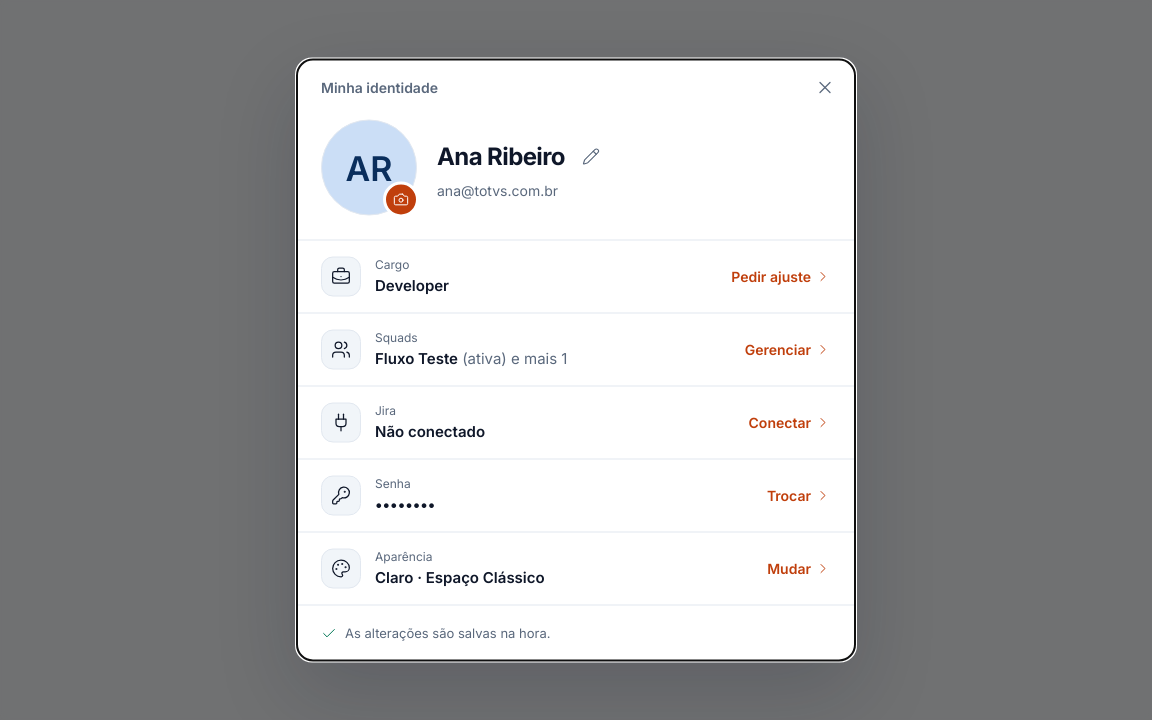
Test: UserProfileModal: nome no lugar › Enter salva só o nome com updateProfile, sem fechar a janela
The width and height of the screenshot is (1152, 720).
Click the button named "Editar nome": x=591, y=156 [569, 134, 613, 178]
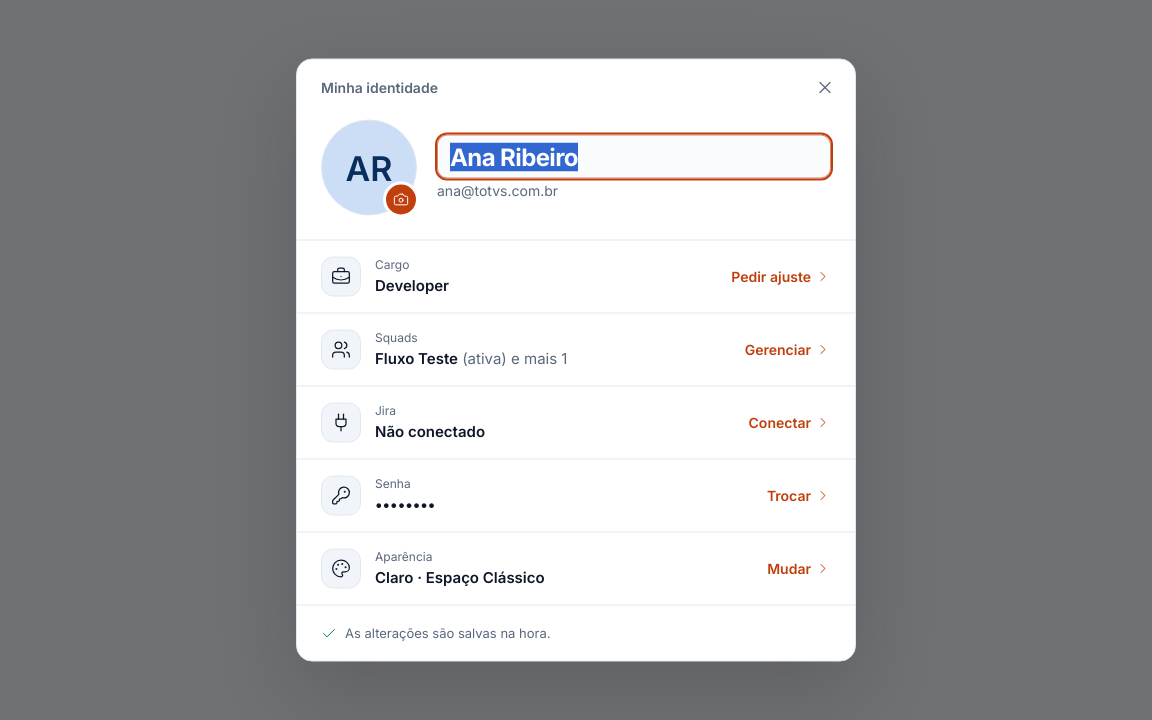
Replace the text in the field named "Nome" with "Ana Maria": x=634, y=156 [437, 134, 831, 178]
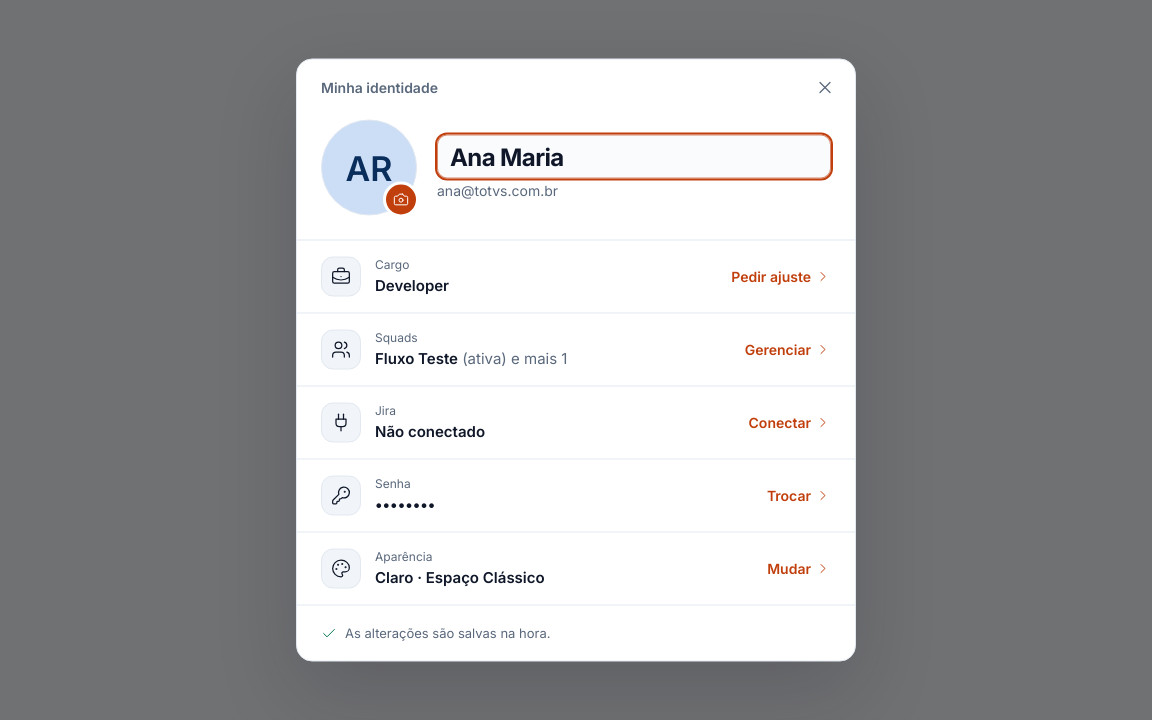
Press Enter in the field named "Nome", box [437, 134, 831, 178]
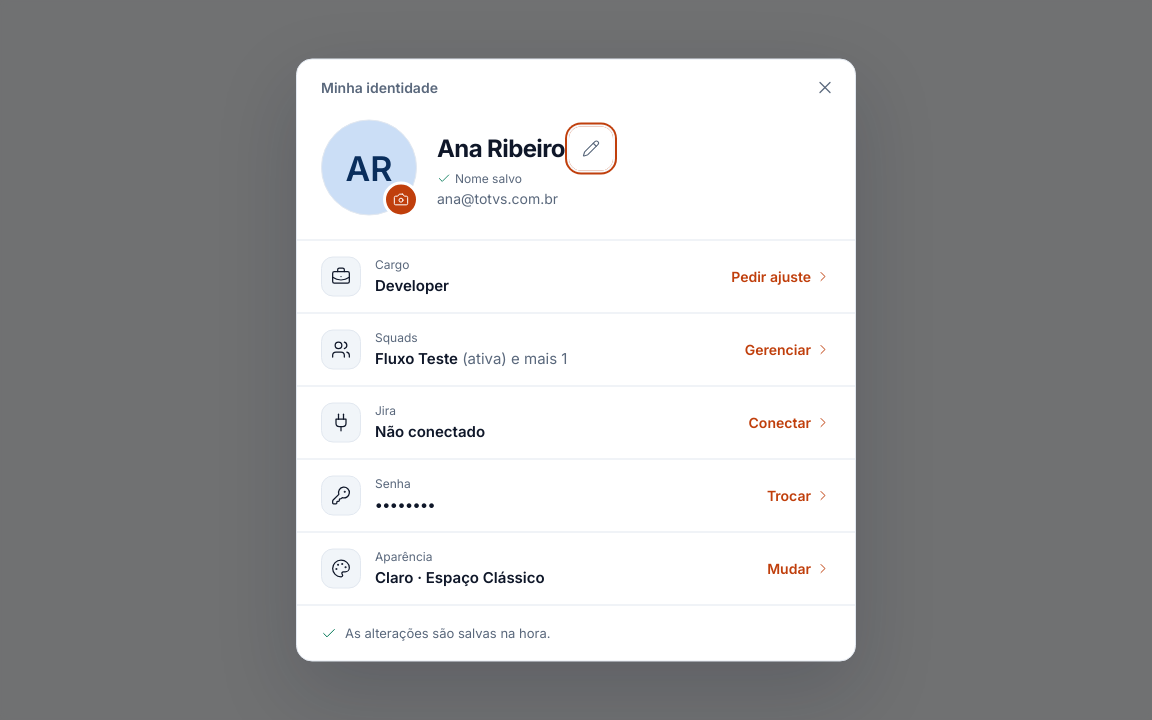
Expected: the text "Nome salvo" is shown, [437, 170, 522, 186]
